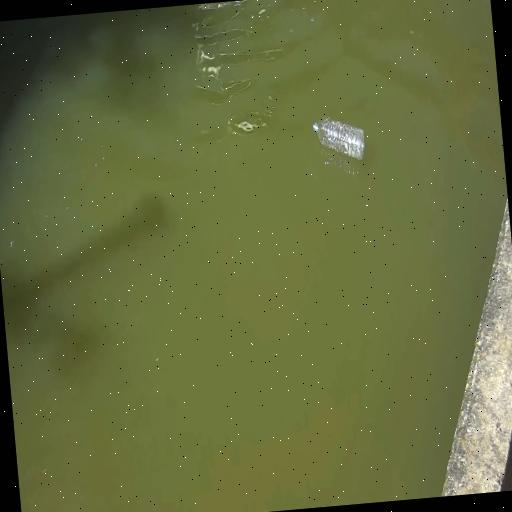plastic: (310, 114, 368, 167)
